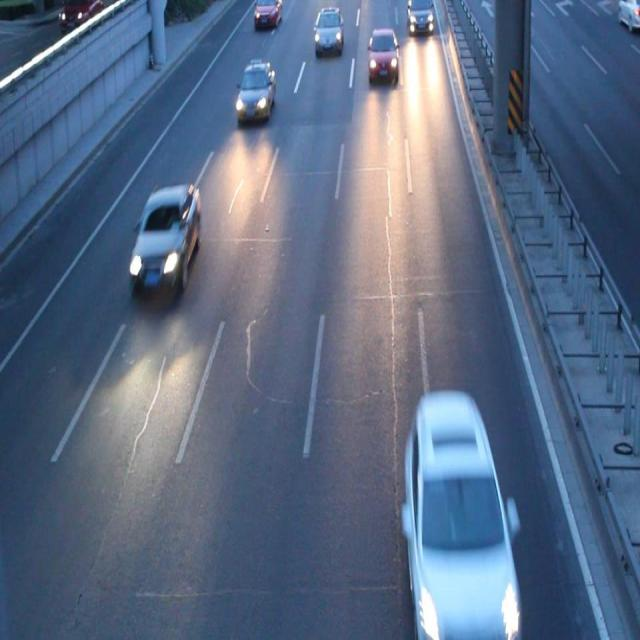car: (399, 386, 519, 640), (129, 181, 201, 290), (236, 58, 277, 120), (366, 29, 399, 85), (314, 1, 342, 55), (406, 1, 431, 33), (254, 1, 280, 26)
